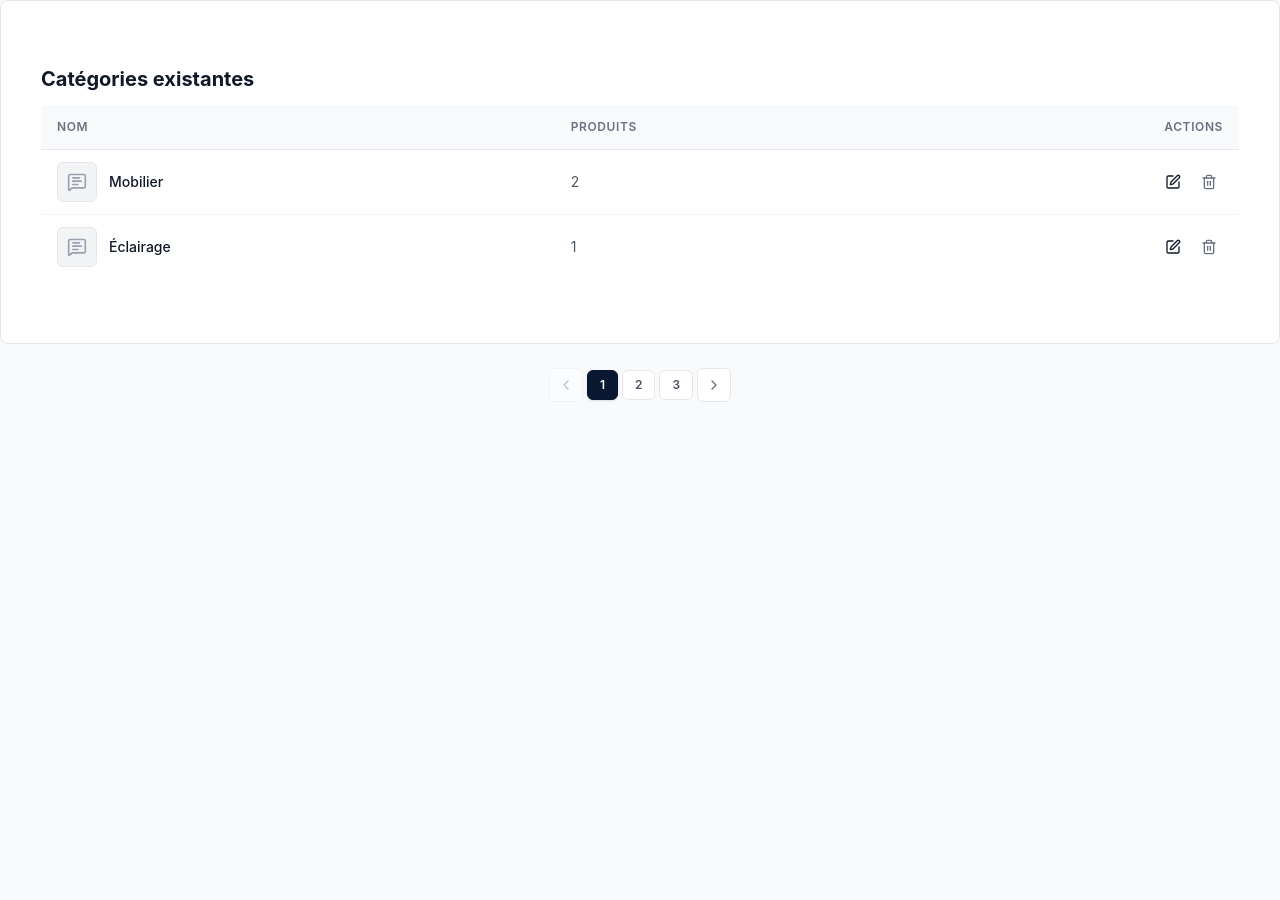
Test case: AdminCategoryTable — suppression › ouvre la modale au clic sur la corbeille
Step 1. Click the button named "supprimer mobilier" → (1209, 182), box [1195,168,1223,196]
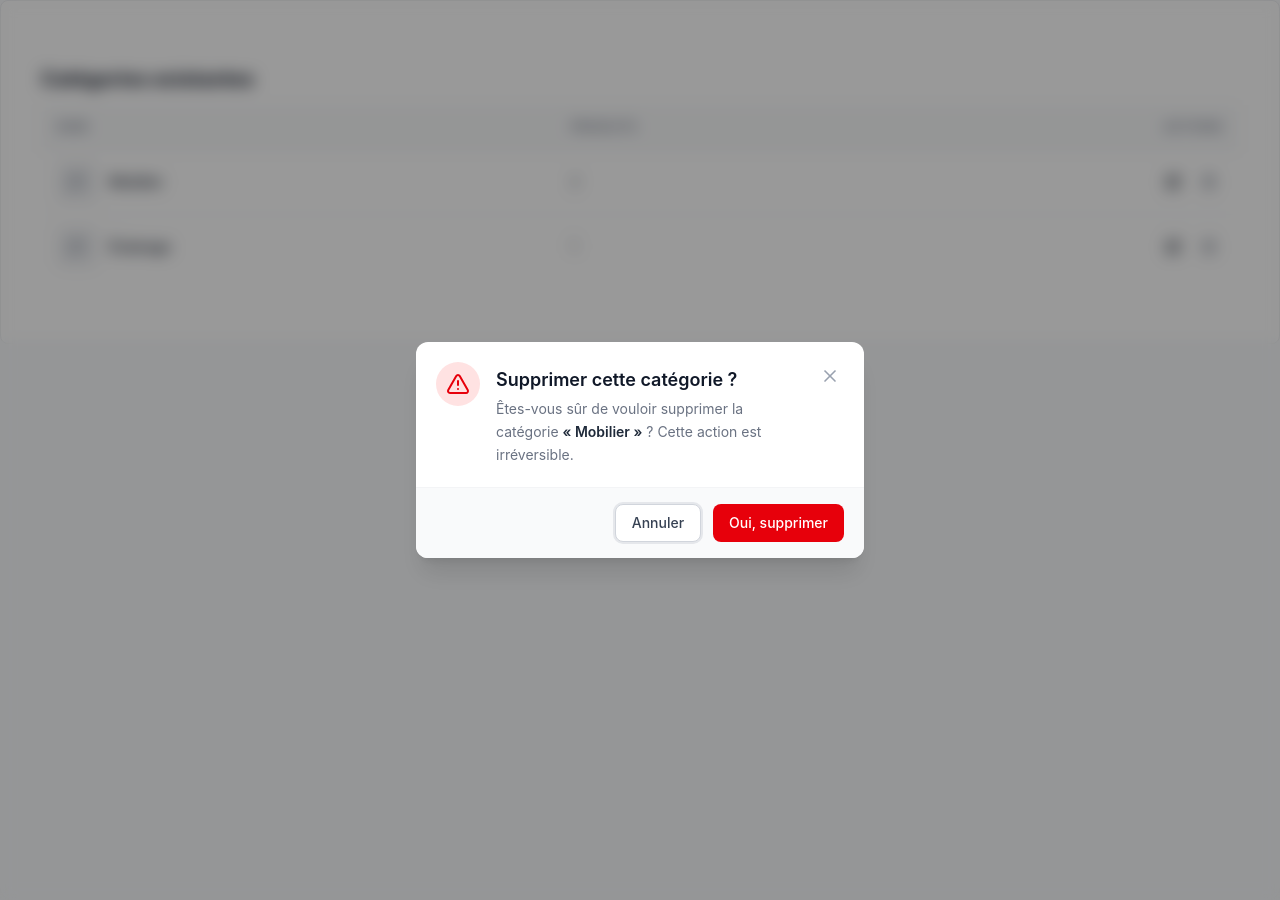
Check: the dialog is shown, box [416,342,864,558]
Check: the heading "Supprimer cette catégorie ?" is shown, box [496,369,737,390]
Check: the text "« Mobilier »" is shown, box [562,423,642,440]
